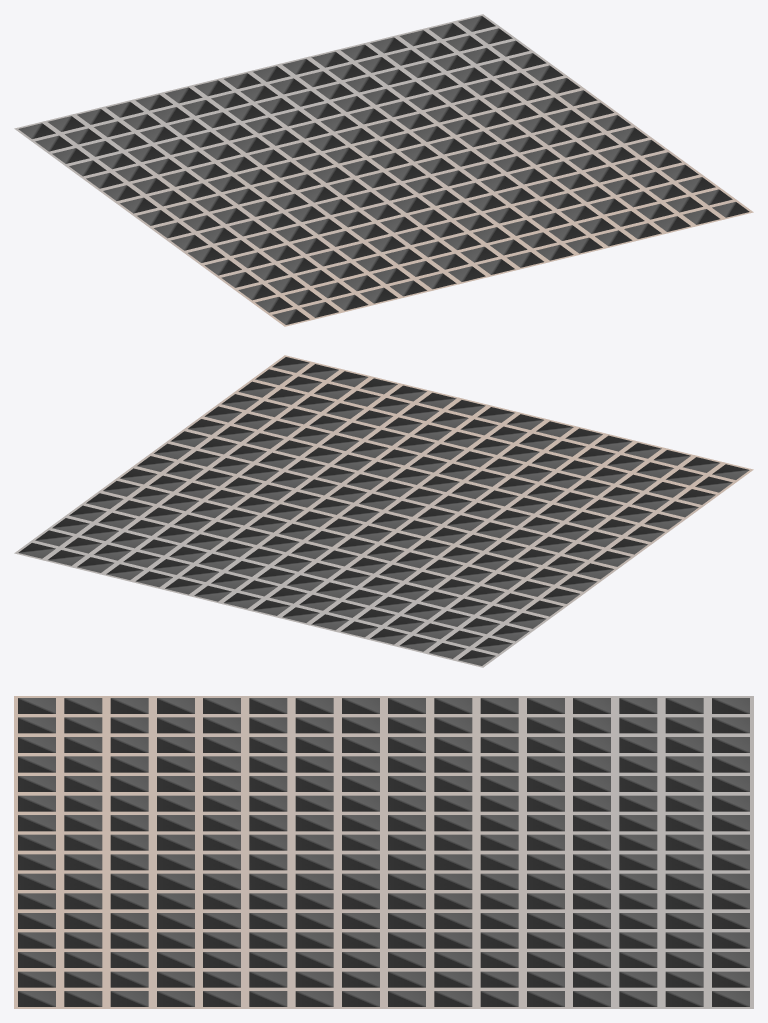
Rendered from map_ground.obj.
The picture shows the model from 3 angles, top to bottom: view 1: azimuth 30°, elevation 25°; view 2: azimuth 150°, elevation 25°; view 3: azimuth 270°, elevation 25°; orthographic projection. The views are drawn at different scales.
Parts seen in each view (by area): view 1: Plane; view 2: Plane; view 3: Plane.
Boxes of the visible parts, x1,y1,x2,y2 form: Plane: [14, 14, 753, 326]; Plane: [14, 355, 753, 667]; Plane: [14, 696, 753, 1008].
Bounding box in the file's own units: 40 × 0 × 40.
